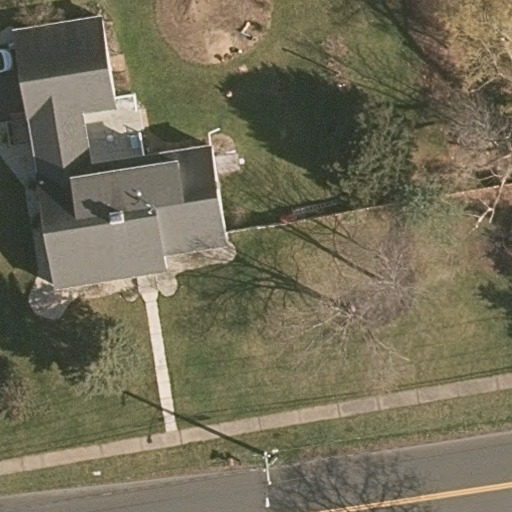DT: (255, 447, 279, 488)
